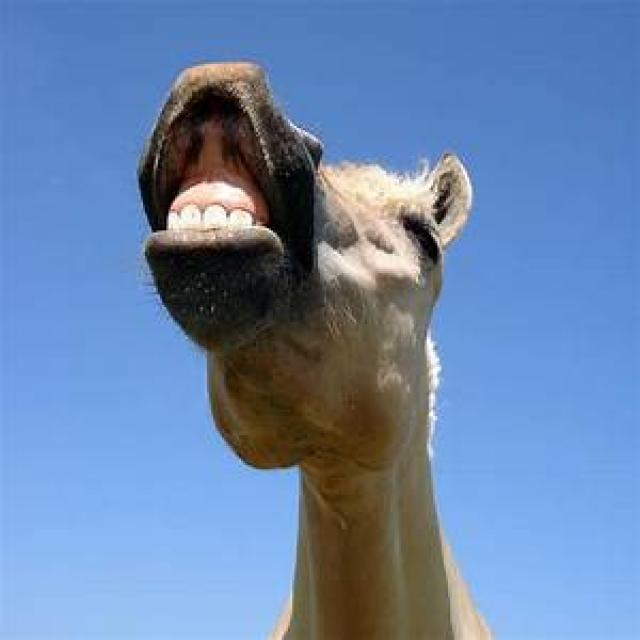horse: (139, 62, 490, 639)
